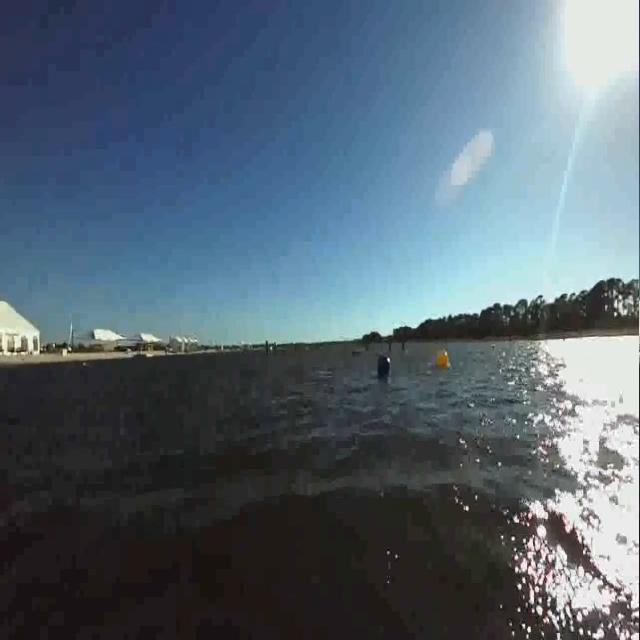blue-buoy: (378, 354, 391, 376)
yellow-buoy: (435, 349, 449, 370)
